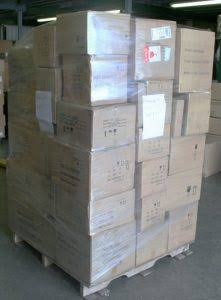box: (89, 218, 138, 288), (89, 143, 139, 203), (46, 216, 90, 284), (134, 15, 177, 83), (177, 26, 216, 95), (48, 138, 92, 197), (50, 176, 89, 237), (89, 188, 138, 234), (87, 10, 135, 56), (90, 58, 133, 107), (92, 104, 136, 148), (134, 80, 172, 129), (56, 101, 92, 152), (55, 10, 89, 58), (29, 18, 60, 70), (61, 58, 92, 105), (168, 202, 197, 251), (138, 122, 172, 161), (167, 171, 201, 205), (184, 93, 211, 135), (172, 98, 185, 139)
pallet: (7, 226, 193, 300)
